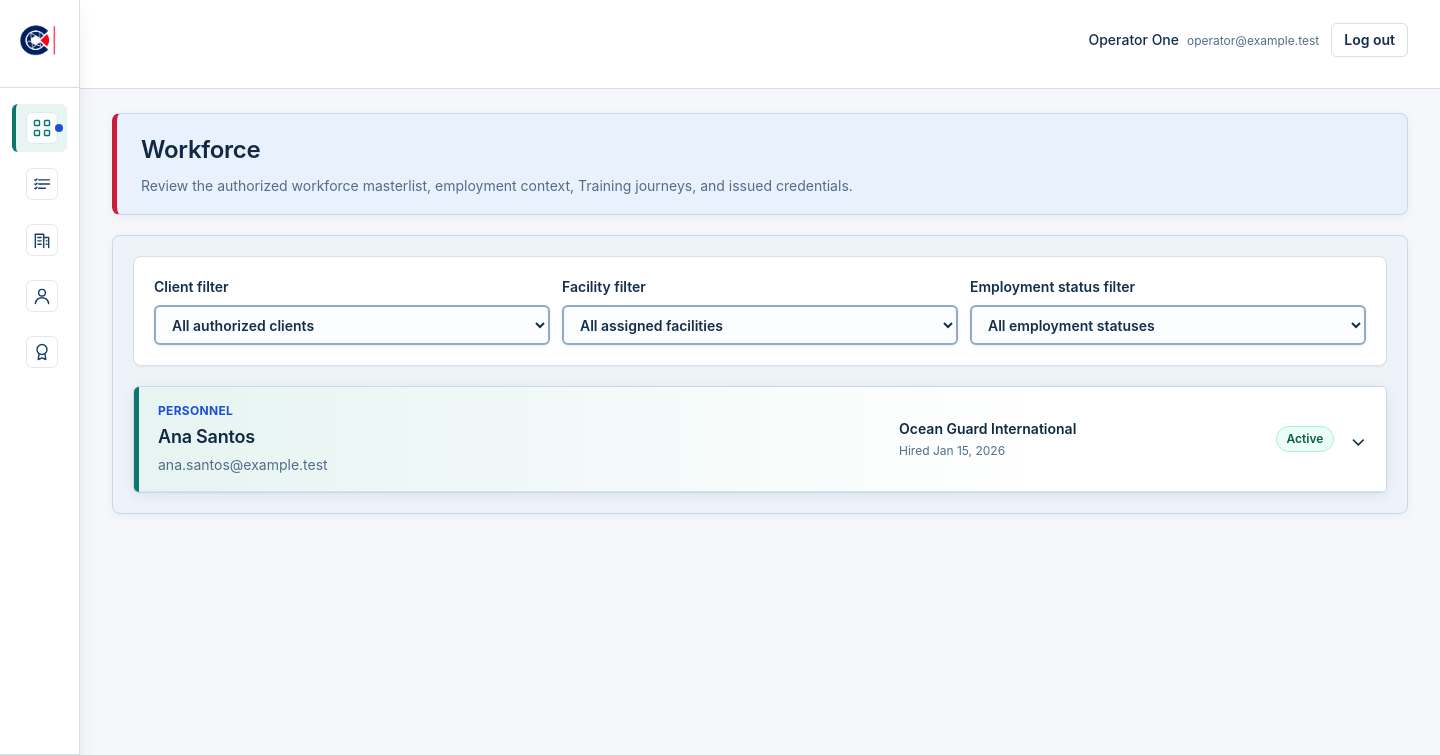
Test: Registration Facility Assignment frontend › reconciles duplicate create conflicts with a safe 409 error for OPERATIONAL_LIFEGUARD
Click the button "Ana Santos".
click(196, 410)  # box x1=138 y1=387 x2=1386 y2=492
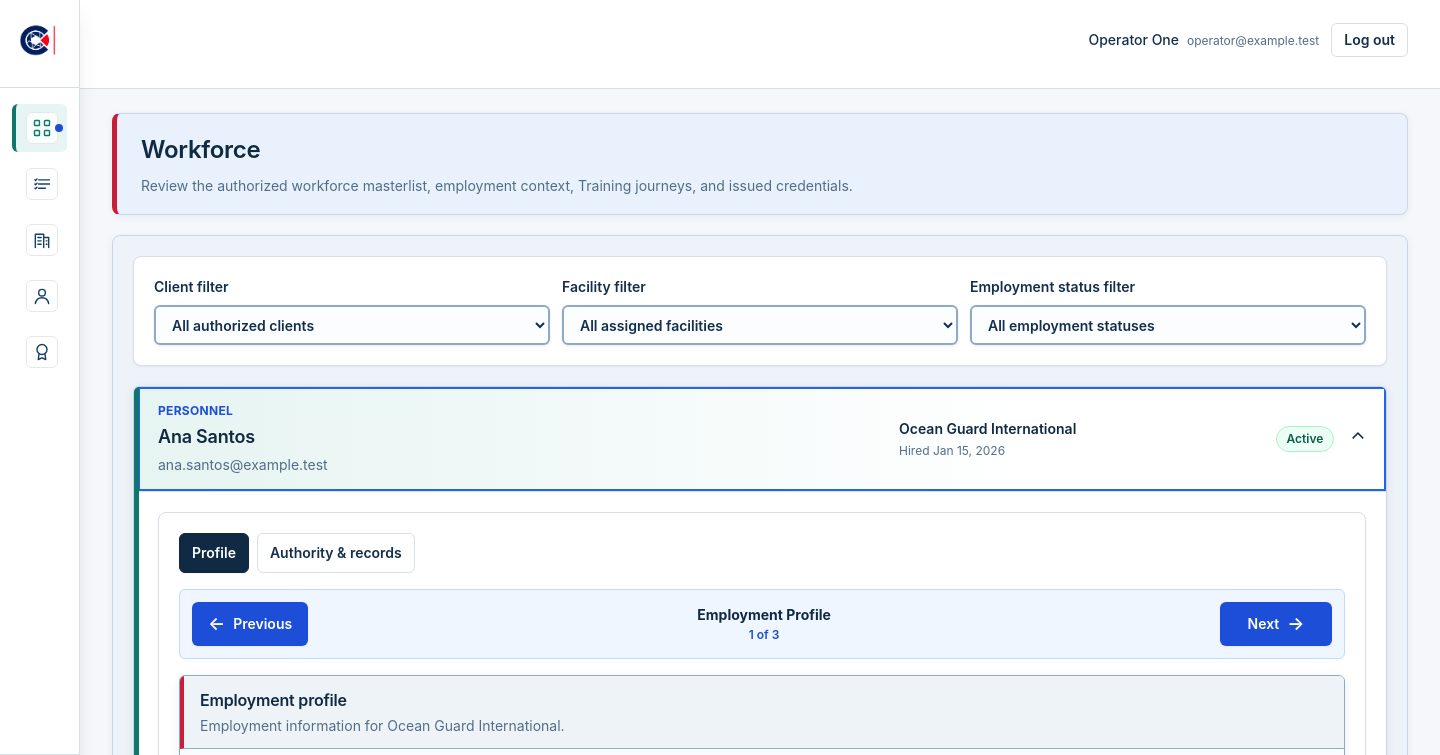
Click the button with aria-label "Next Profile card".
click(1276, 624)  # box x1=1220 y1=602 x2=1332 y2=646
(page scrolled)
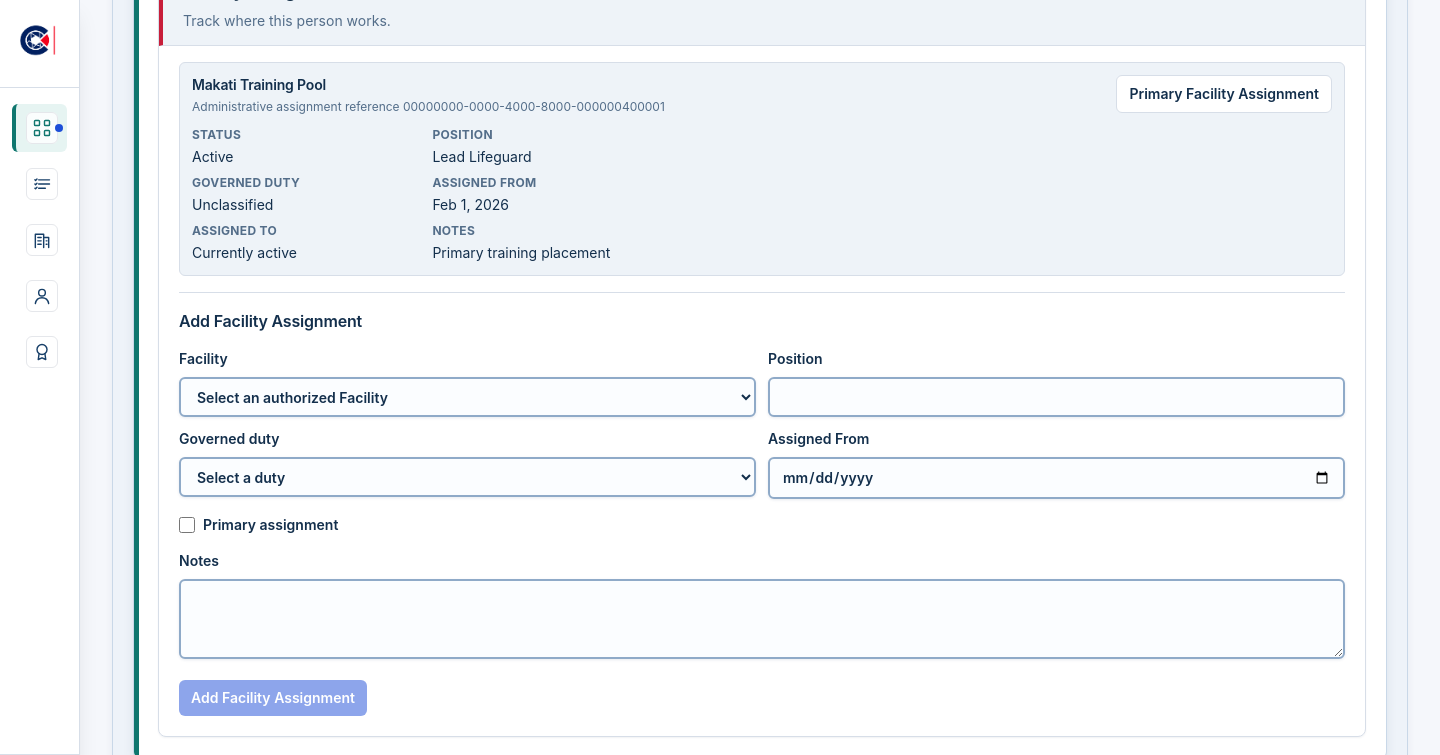
Select "Makati Training Pool" in the dropdown labelled "Facility" at (468,397), box x1=179 y1=377 x2=756 y2=417
Type "Lead Lifeguard" into the field labelled "Position".
click(1056, 397); type("Lead Lifeguard")  # box x1=768 y1=377 x2=1345 y2=417
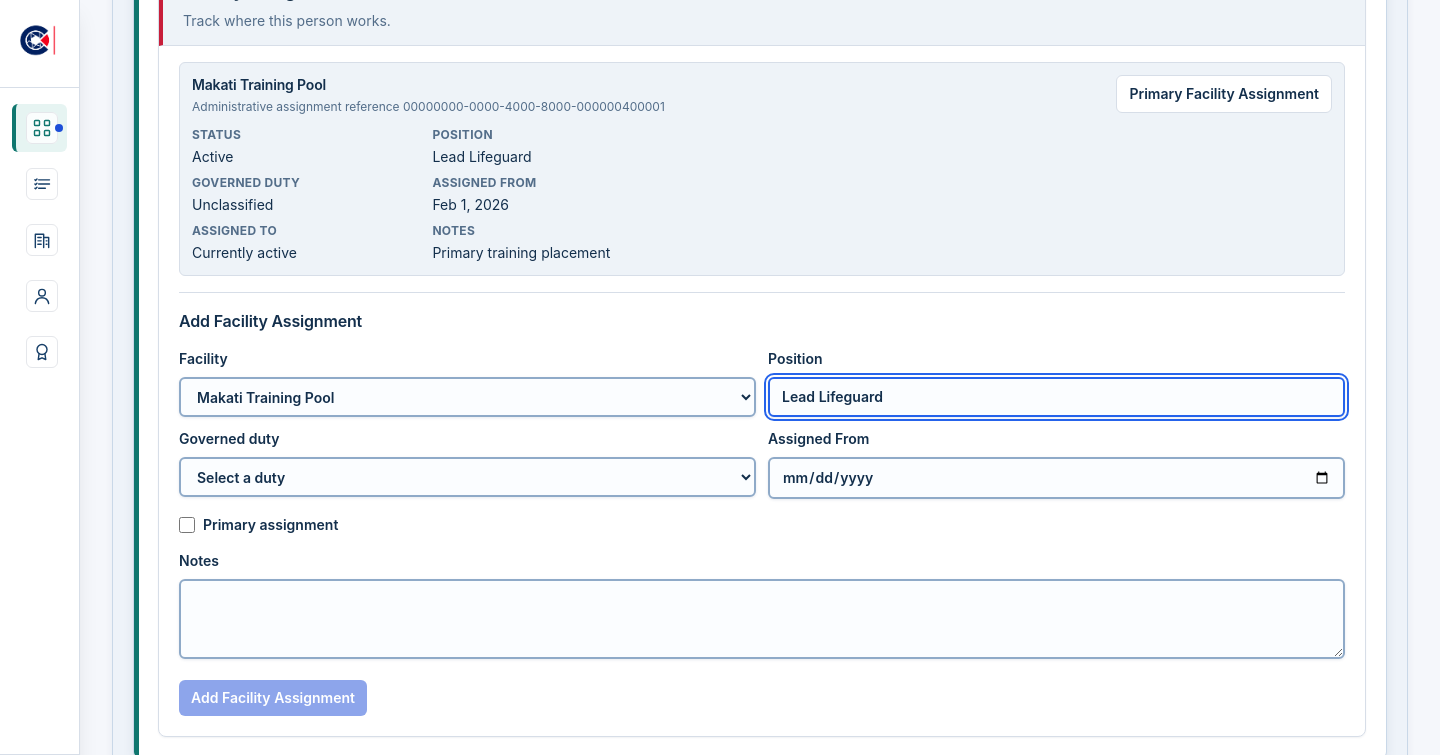
Select "Operational lifeguard" in the dropdown labelled "Governed duty" at (468,477), box x1=179 y1=457 x2=756 y2=497
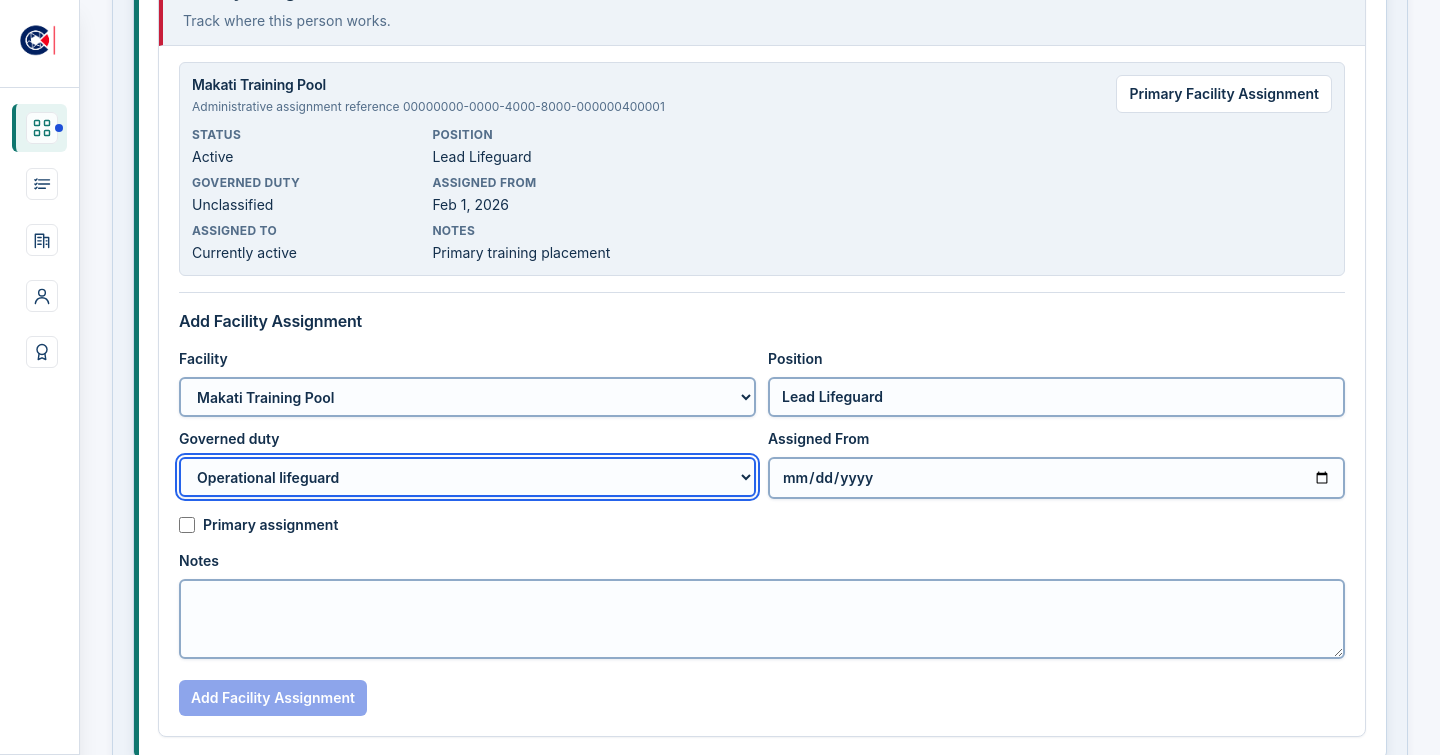
Type "2026-02-01" into the date field labelled "Assigned From".
click(1056, 478); type("2026-02-01")  # box x1=768 y1=457 x2=1345 y2=499
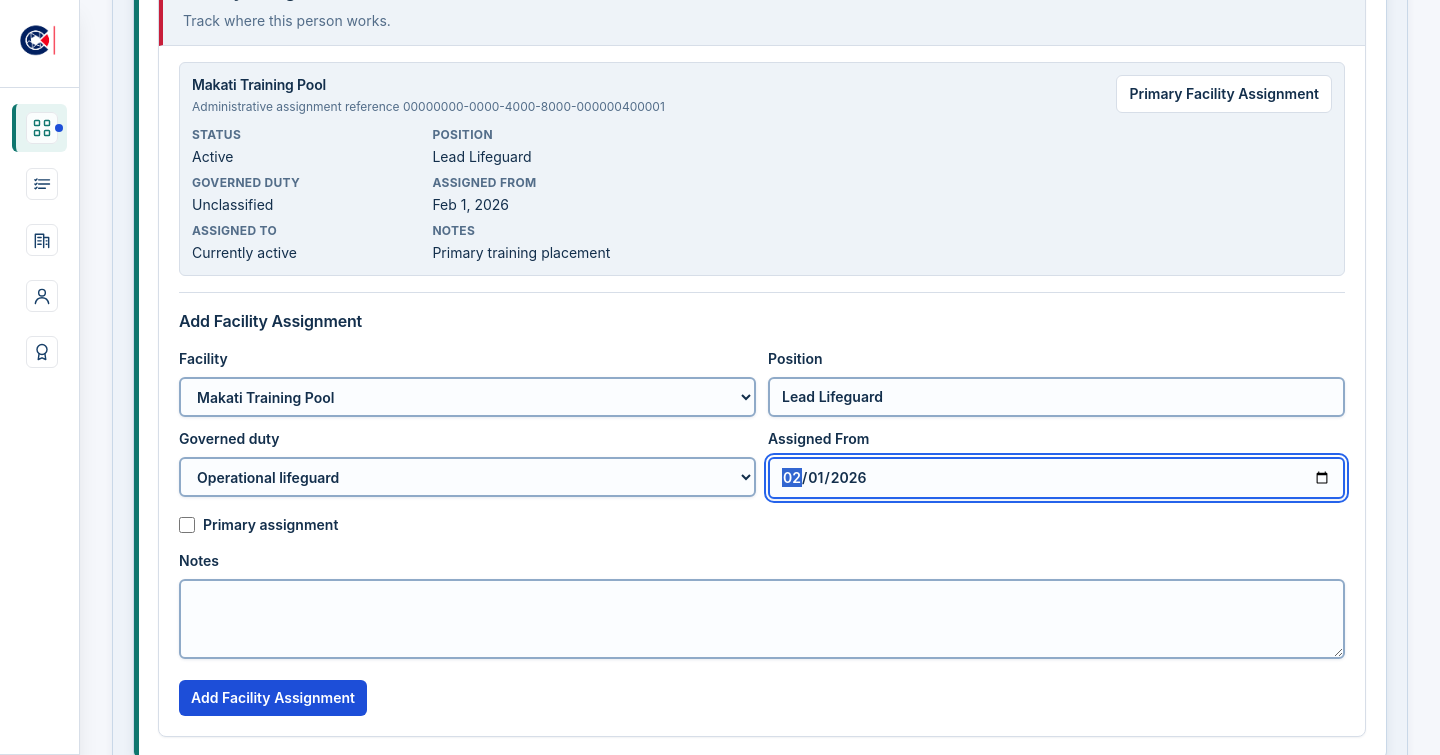
Click the button "Add Facility Assignment".
click(273, 698)  # box x1=179 y1=680 x2=367 y2=716
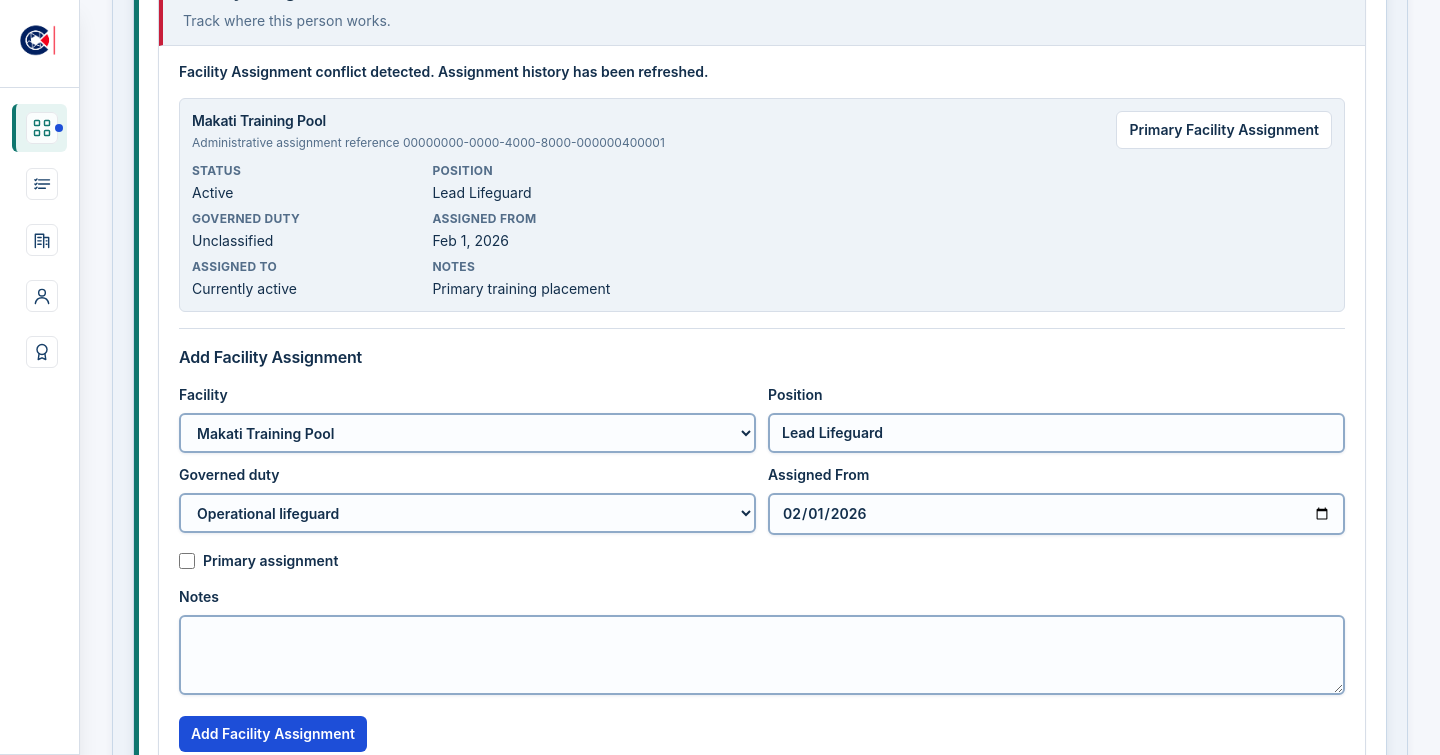
Expected: the message reads "Facility Assignment conflict detected. Assignment history has been refreshed.", x1=179 y1=63 x2=709 y2=80
